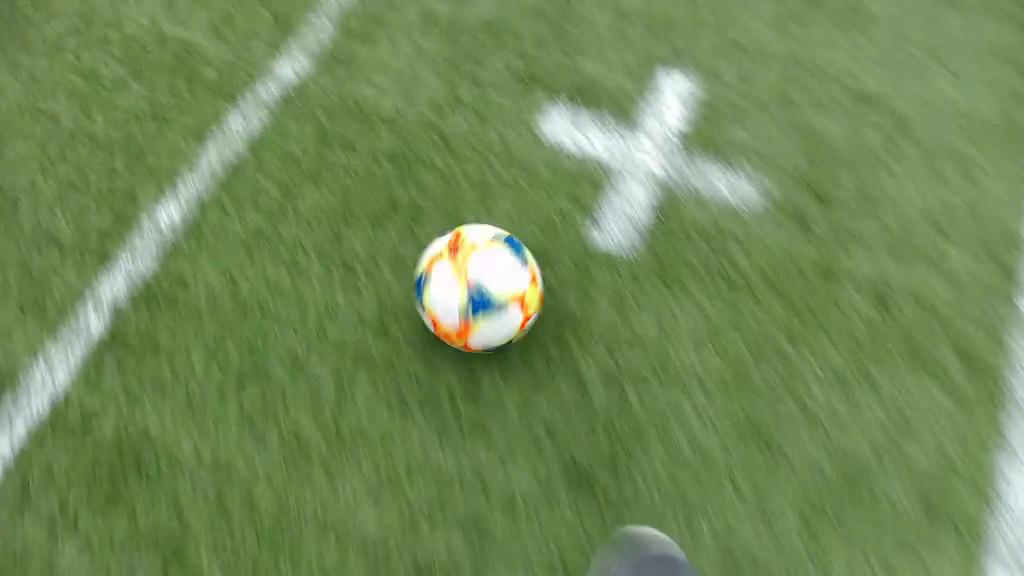ball: (413, 222, 541, 352)
